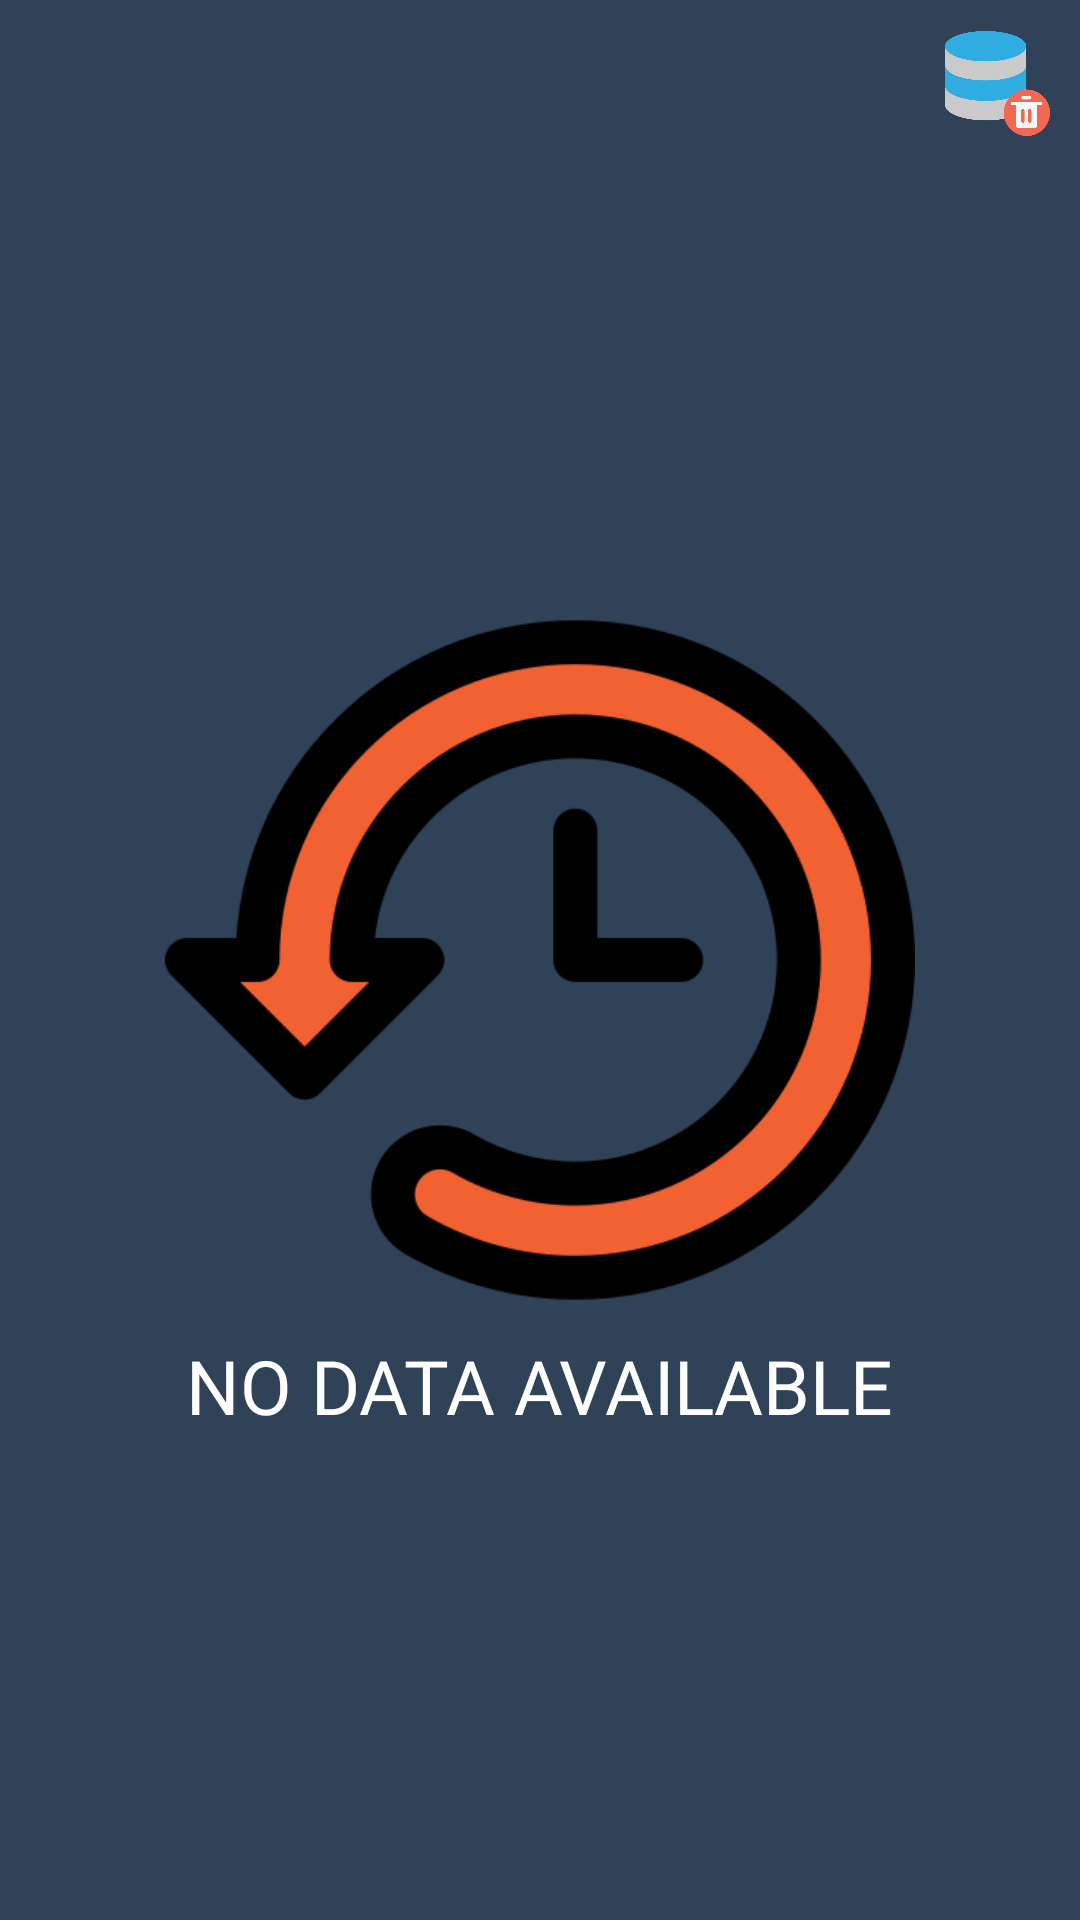

Named icons in this screenshot (1080 × 1920) and their centers, (x,y):
delete database: (997,83)
